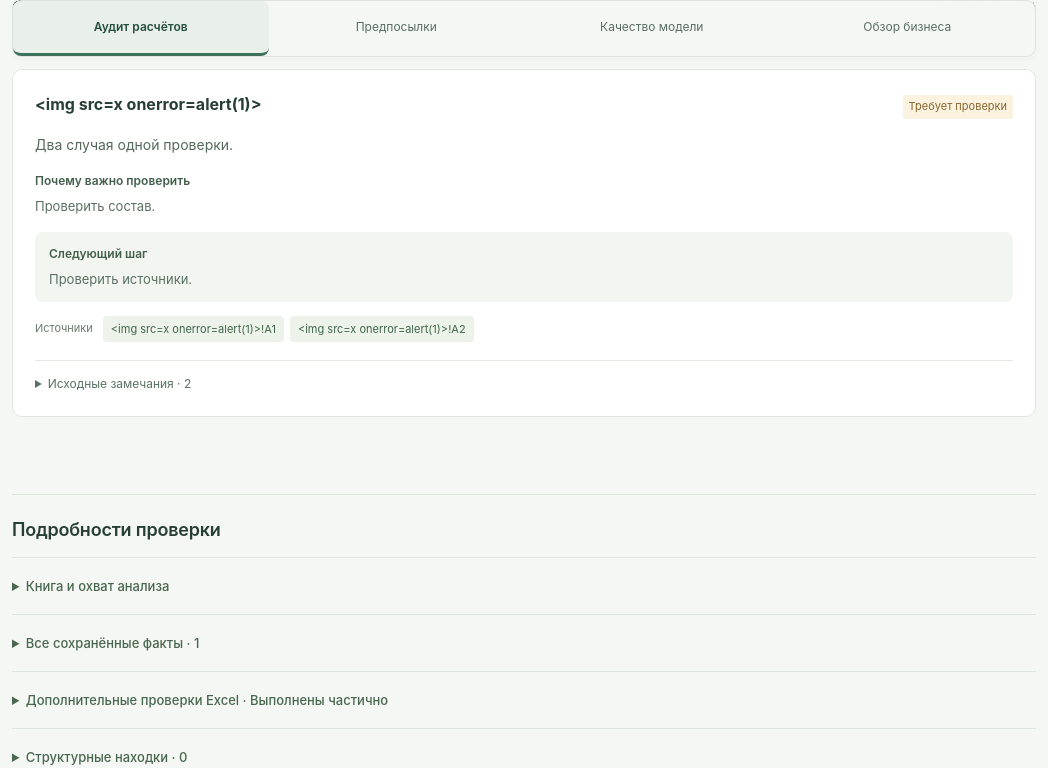
presentation groups retain every original while raw labels remain escaped and severity is not inferred
This screenshot has width=1048, height=768.
(page scrolled)
Expected: the element with class "finding-group" is shown, [12,69,1036,417]
Click the heading "Исходные замечания · 2" at {"x": 119, "y": 384}, box [48,376,191,392]
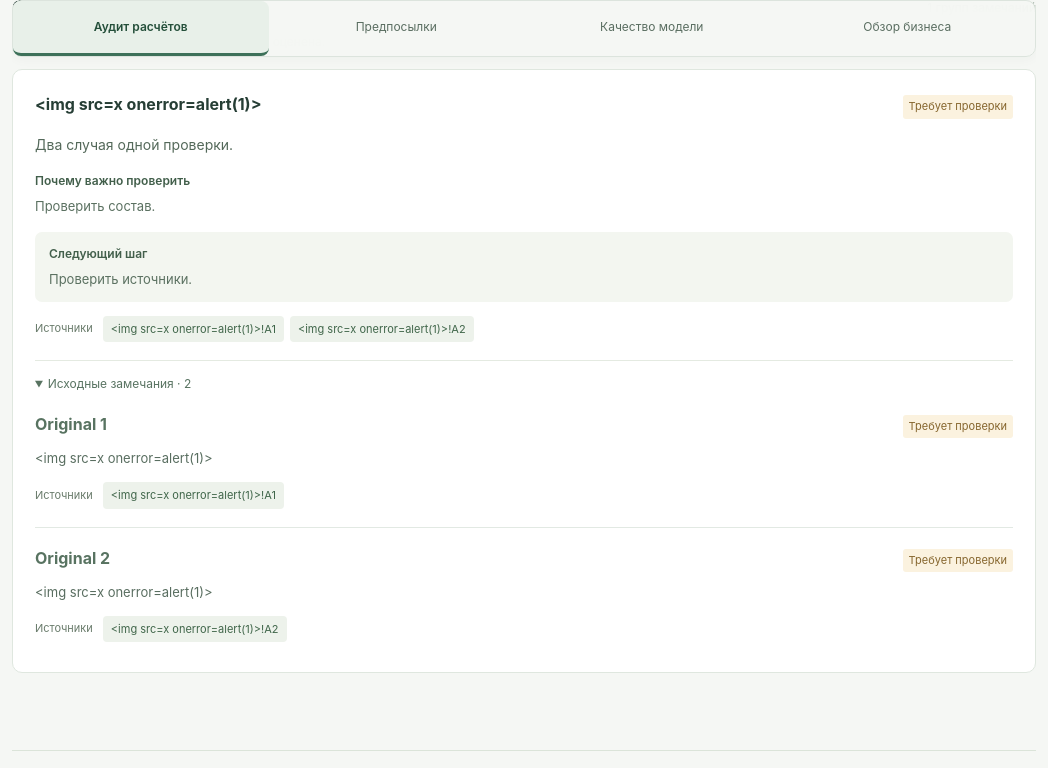
Result: the heading "Original 1" is shown at [35,412,107,436]
Result: the heading "Original 2" is shown at [35,546,110,570]
Result: the text "Требует проверки" is shown 3 times at [903,95,1013,118]; [903,415,1013,438]; [903,549,1013,572]
